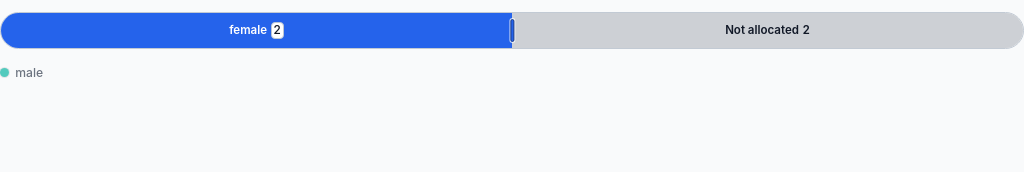
Test: AttributeBalanceTargetsEditor › reuses the full distribution control for grid editing
Expected: the field named "female count" holds "2", [270,22,284,39]
Click the button with aria-label "enable target for male": (29, 73) [15,64,43,82]
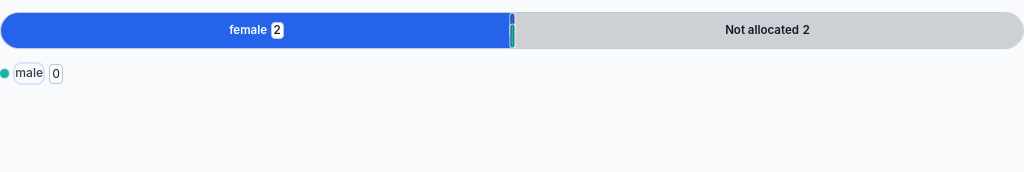
Expected: the field named "male count" holds "0", [50,64,63,84]
